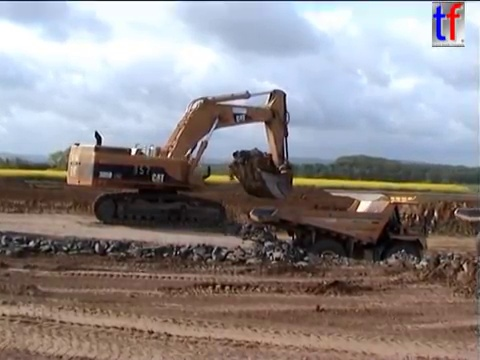excavator: (64, 87, 295, 230)
truck: (247, 194, 433, 285), (451, 205, 480, 262)
